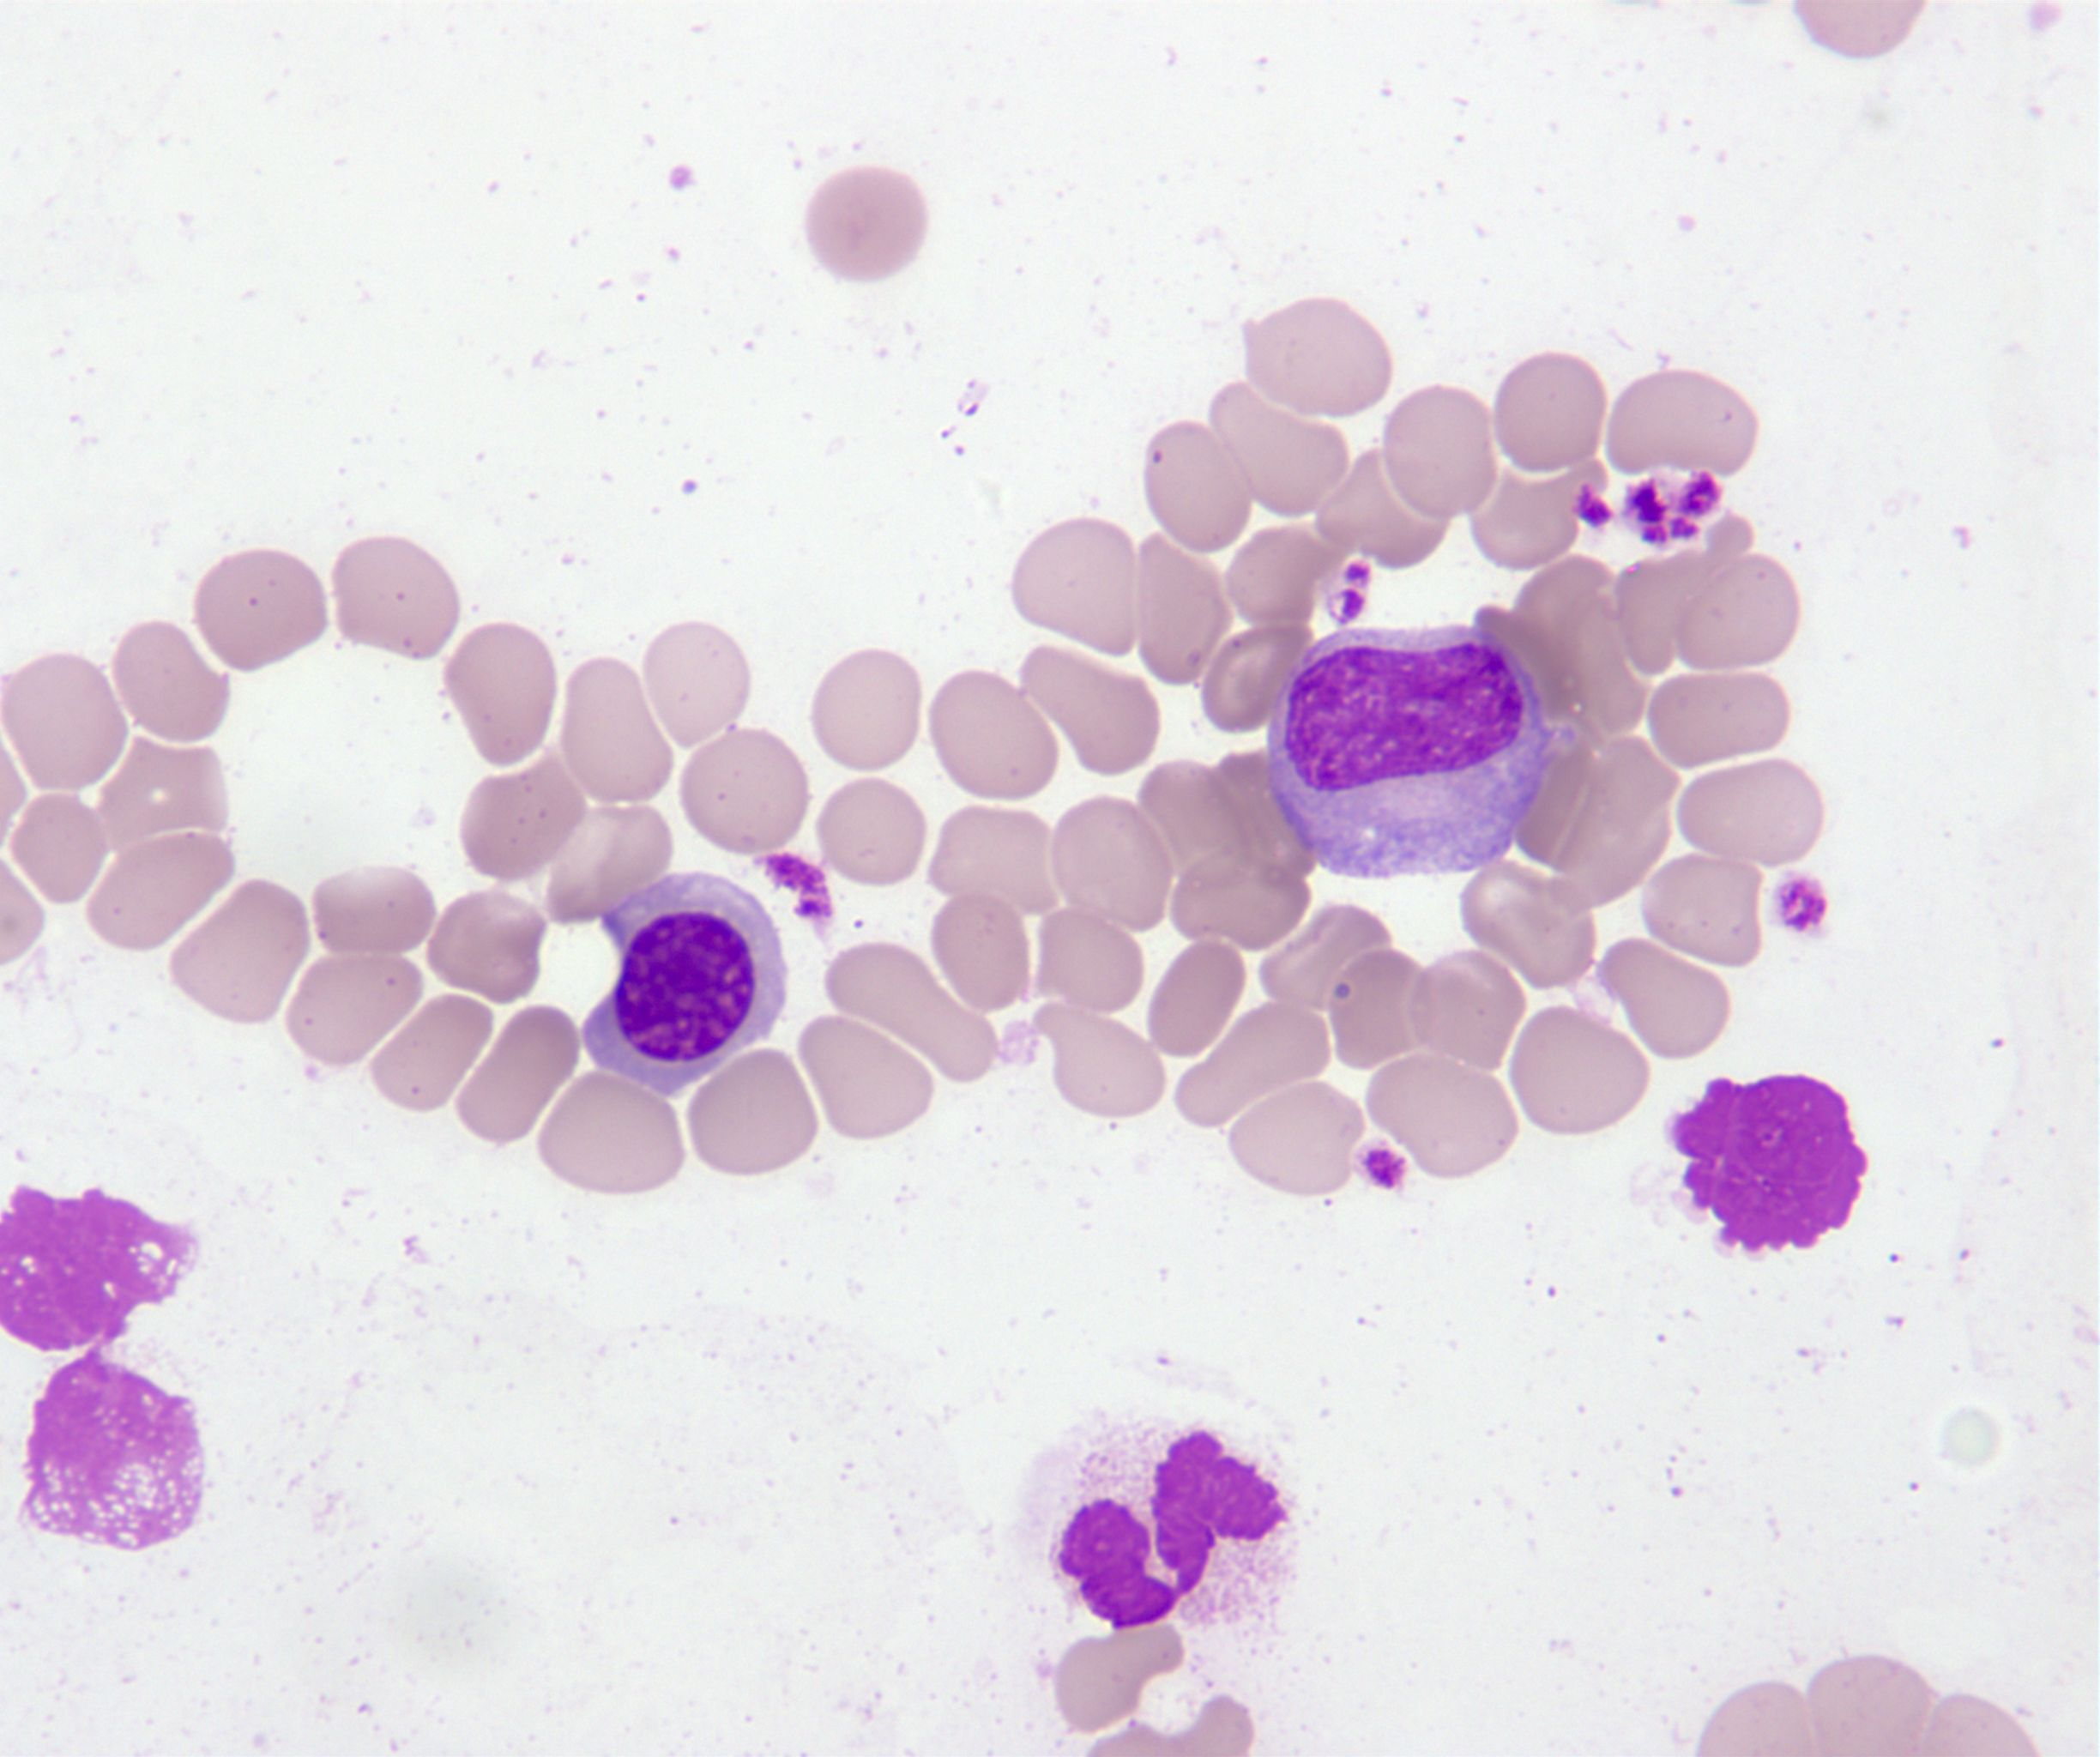2: (1266, 626, 1552, 878)
23: (581, 872, 788, 1092)
x: (1020, 1415, 1296, 1633), (21, 1343, 202, 1551), (1666, 1075, 1866, 1251), (0, 1186, 199, 1352)
